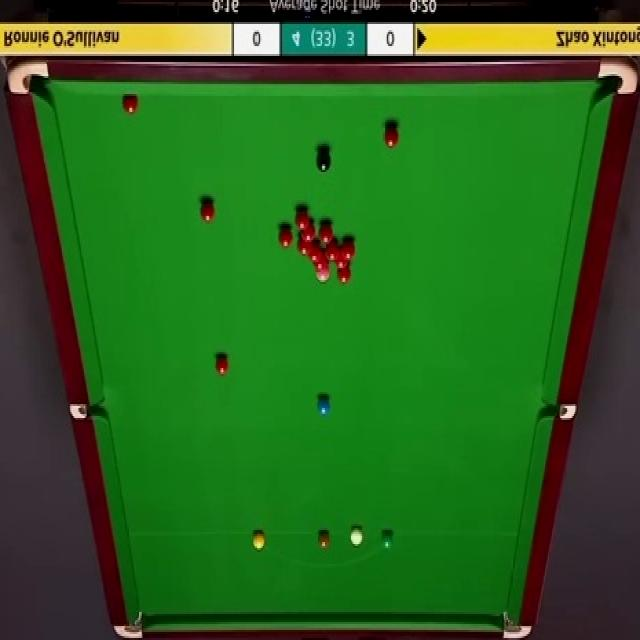pocket: (6, 55, 49, 97), (596, 58, 636, 97), (501, 608, 530, 640), (113, 612, 143, 640), (68, 402, 102, 422), (540, 405, 574, 420)
